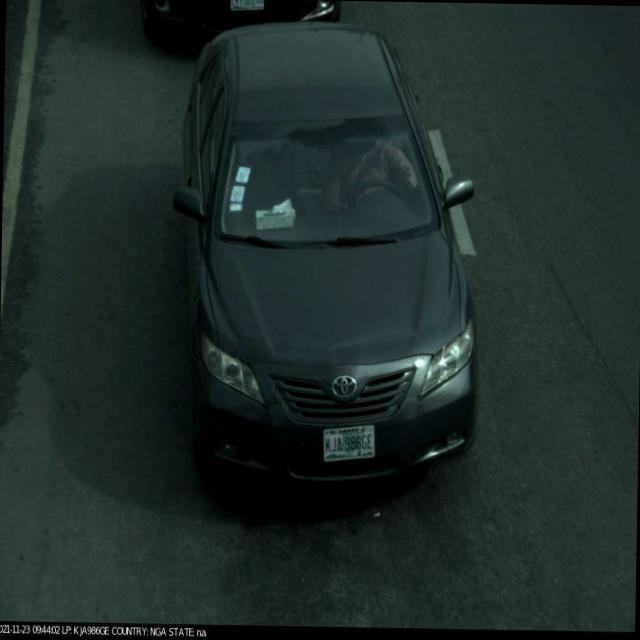person_with_seatbelt: (320, 127, 412, 230)
